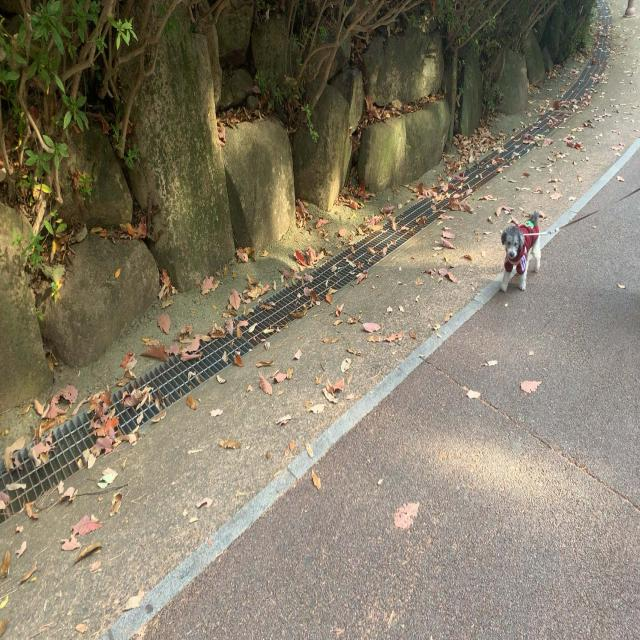Dog: (501, 213, 544, 293)
